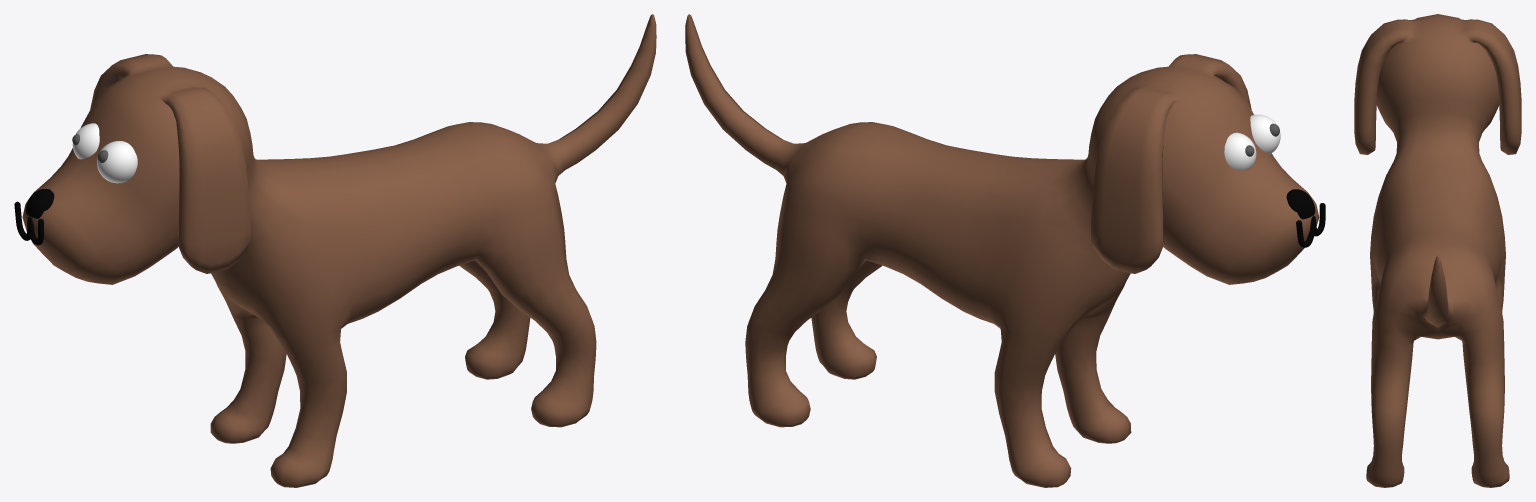
Rendered from Basic Dog Brown.glb.
3 views of the same model, side by side, from view 1: azimuth 30°, elevation 25°; view 2: azimuth 150°, elevation 25°; view 3: azimuth 270°, elevation 25° (orthographic). The views are drawn at different scales.
Visible parts, largest first — view 1: mesh_id27, mesh_id37, mesh_id43; view 2: mesh_id27, mesh_id43, mesh_id37; view 3: mesh_id27.
Boxes of the visible parts, <box> form: mesh_id27: <box>22,14,656,487</box>; mesh_id37: <box>97,141,137,183</box>; mesh_id43: <box>72,123,99,159</box>; mesh_id27: <box>685,14,1319,487</box>; mesh_id43: <box>1224,132,1256,170</box>; mesh_id37: <box>1250,114,1280,154</box>; mesh_id27: <box>1354,14,1521,487</box>.
Bounding box in the file's own units: 1.19 × 0.7429 × 0.3499.
Materials: 7 (7 with a texture image).
